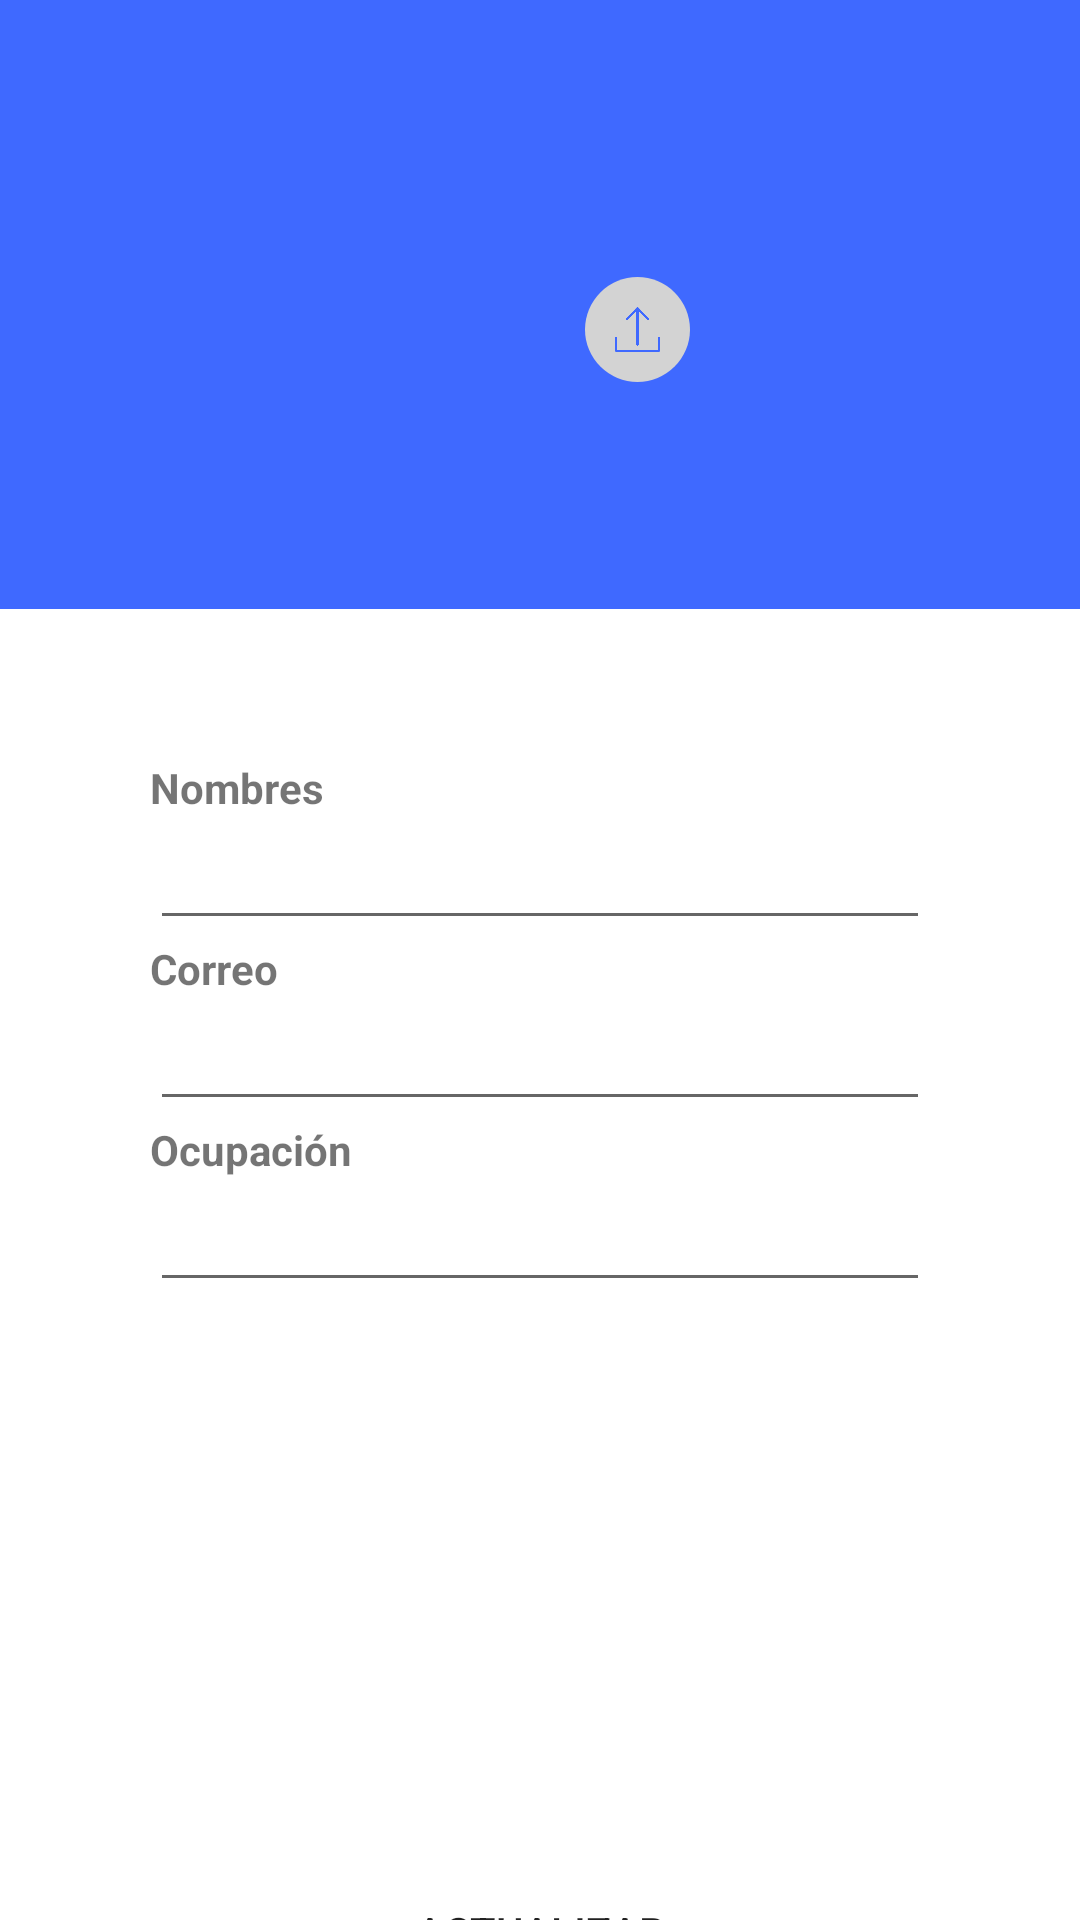

Screen size 1080w x 1920h. Icon name, then its box in pixels as (x1, y1, x2, y2):
upload: (585, 277, 690, 382)
